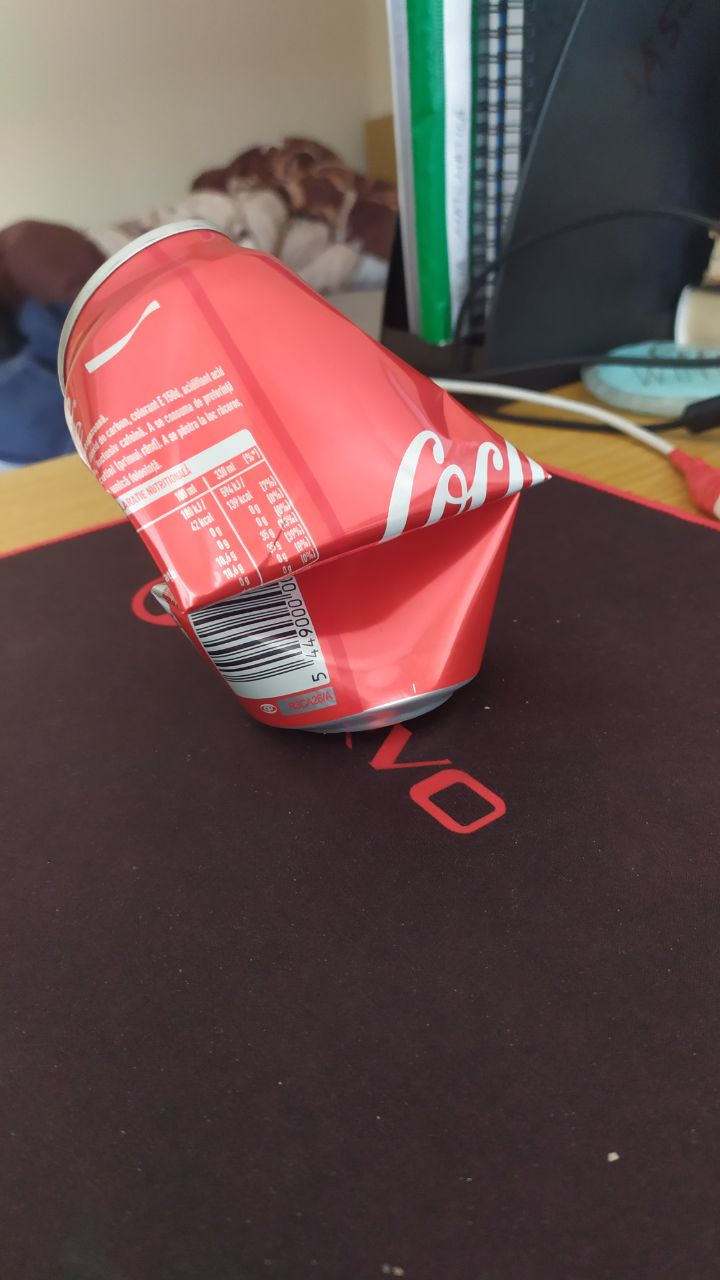Can: (43, 211, 548, 739)
